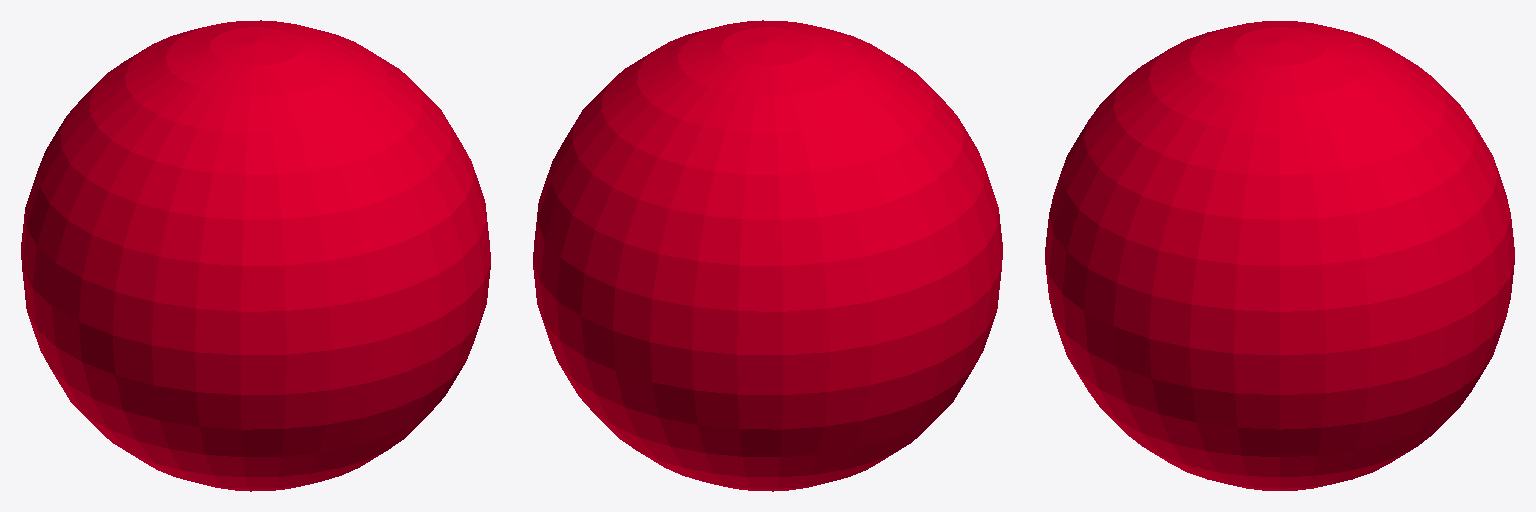
The robot description file, URDF, robot "standard_tactip.urdf":
<?xml version="1.0" ?>
<robot name="standard_tactip.urdf">

    <link name="tactip_body_link">
      <inertial>
        <origin rpy="0 0 0" xyz="0 0 0"/>
         <mass value="0.25"/>
         <inertia ixx="0.001" ixy="0" ixz="0" iyy="0.001" iyz="0" izz="0.001"/>
      </inertial>
      <visual>
        <origin rpy="0 0 0" xyz="0 0 0"/>
        <geometry>
        <mesh filename="body/tactip_body.obj" scale="1.0 1.0 1.0"/>
        </geometry>
         <material name="whitish">
          <color rgba="0.8 0.8 0.8 1.0"/>
        </material>
      </visual>
      <collision>
        <origin rpy="0 0 0" xyz="0 0 0"/>
        <geometry>
        <mesh filename="body/tactip_body.obj" scale="1.0 1.0 1.0"/>
        </geometry>
      </collision>
    </link>


    <link name="tactip_tip_link">
      <contact>
        <friction_anchor/>
        <lateral_friction value="1.0"/>
      </contact>
      <inertial>
        <origin rpy="0 0 0" xyz="0 0 0"/>
         <mass value="0.01"/>
         <inertia ixx="1" ixy="0" ixz="0" iyy="1" iyz="0" izz="1"/>
      </inertial>
      <visual>
        <origin rpy="0 0 0" xyz="0 0 0"/>
        <geometry>
          <mesh filename="tip/skin.obj" scale="1.0 1.0 1.0"/>
        </geometry>
        <material name="black">
           <color rgba="0.0 0.0 0.0 1.0"/>
       </material>
      </visual>
      <collision>
        <origin rpy="0 0 0" xyz="0 0 0"/>
        <geometry>
          <mesh filename="tip/core.obj" scale="1 1 1"/>
        </geometry>
      </collision>
    </link>

    <joint name="tactip_tip_to_body" type="fixed">
       <origin rpy="1.57 0 0" xyz="0 0 0.065"/>
       <axis xyz="0 1 0"/>
       <parent link="tactip_body_link"/>
       <child link="tactip_tip_link"/>
    </joint>

    <!-- TCP -->
    <link name="tcp_link">
      <visual>
        <origin rpy="0 0 0" xyz="0 0 0"/>
        <geometry>
          <sphere radius="0.001"/>
        </geometry>
        <material name="TransparentRed">
          <color rgba="0.9 0 0.2 0.5"/>
        </material>
      </visual>
      <inertial>
        <mass value="0.0"/>
        <origin rpy="0.0 0.0 1.57" xyz="0.0 0.0 0.0"/>
        <inertia ixx="1.0" ixy="0.0" ixz="0.0" iyy="1.0" iyz="0.0" izz="1.0"/>
      </inertial>
    </link>

    <joint name="tcp_joint" type="fixed">
      <parent link="tactip_body_link"/>
      <child link="tcp_link"/>
      <origin rpy="0 0 0" xyz="0.0 0.0 0.085"/>
    </joint>


</robot>

--- Facts derived from the render (not from the file) ---
3 views of the same robot in one strip: view 1: azimuth 30°, elevation 25°; view 2: azimuth 150°, elevation 25°; view 3: azimuth 270°, elevation 25° (orthographic).
Robot: standard_tactip.urdf — 3 links, 2 joints (2 fixed); root link tactip_body_link; default pose: every joint at zero.
Visible links, largest first — view 1: tcp_link; view 2: tcp_link; view 3: tcp_link.
Link boxes in pixels (<box>): tcp_link: <box>21,20,490,491</box>; tcp_link: <box>533,20,1002,491</box>; tcp_link: <box>1045,21,1514,490</box>.
Bounding box of the posed robot: 0.002 × 0.002 × 0.002 m (x, y, z).
0 mesh visuals loaded from 2 distinct referenced files (none loaded); not drawn: 2 (reference not matched to a file when rendering).